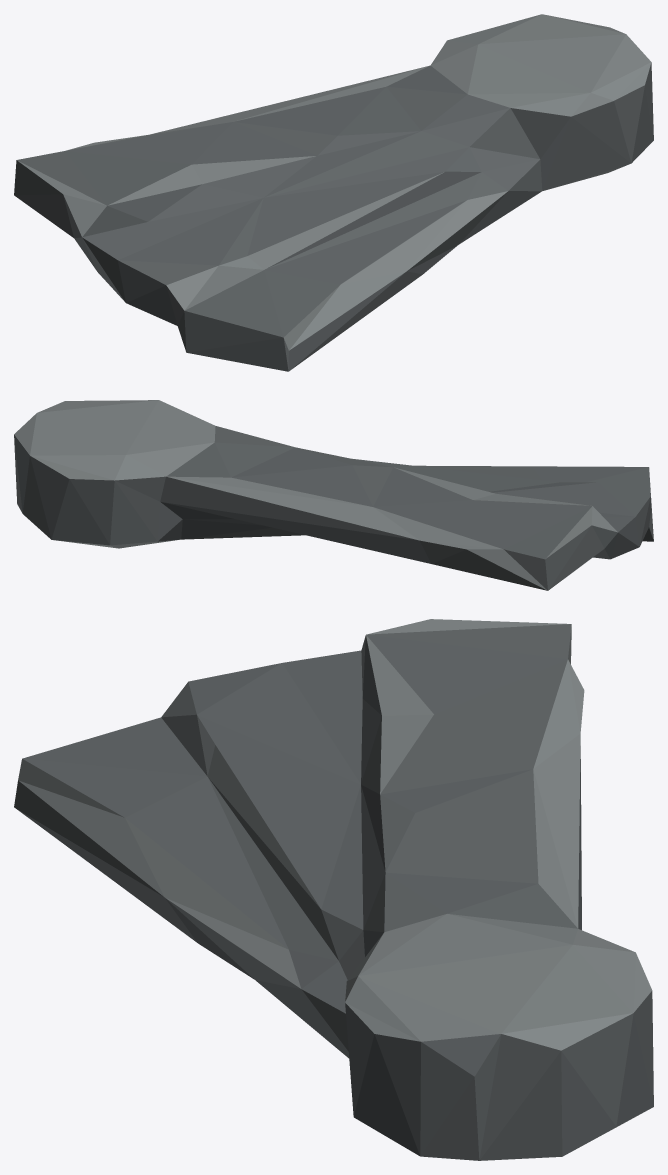
File: MCastle_Steps_10.FBX
3 renders of one model, top to bottom at view 1: azimuth 30°, elevation 25°; view 2: azimuth 150°, elevation 25°; view 3: azimuth 270°, elevation 25°, orthographic. The views are drawn at different scales.
Parts seen in each view (by area): view 1: MCastle_Steps_10_LOD0; view 2: MCastle_Steps_10_LOD0; view 3: MCastle_Steps_10_LOD0.
Boxes of the visible parts, x1,y1,x2,y2 form: MCastle_Steps_10_LOD0: [14, 14, 653, 371]; MCastle_Steps_10_LOD0: [14, 400, 653, 590]; MCastle_Steps_10_LOD0: [14, 619, 653, 1160].
Size of what is drawn, in the model's own units: 4.09 by 0.6302 by 2.61.
